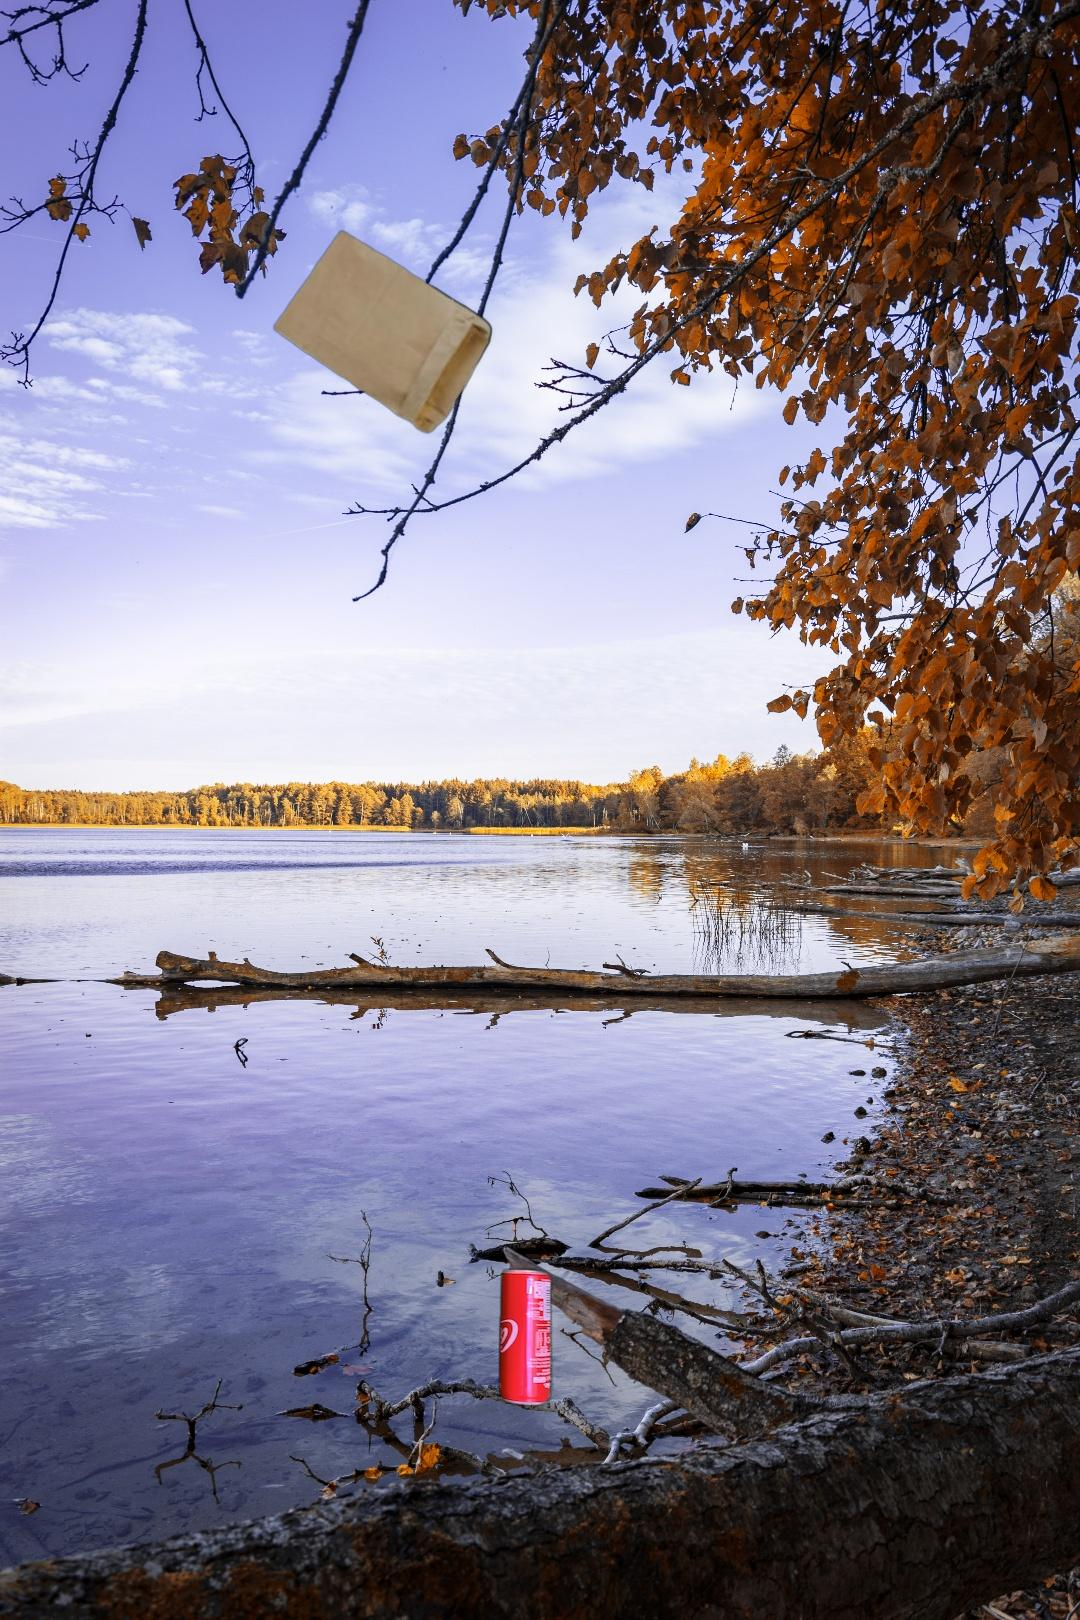metal-cans: (494, 1262, 557, 1411)
paper-bag: (271, 228, 505, 436)
penholder: (1069, 1608, 1080, 1620)
trashbox-cardboard: (489, 1351, 976, 1620)
